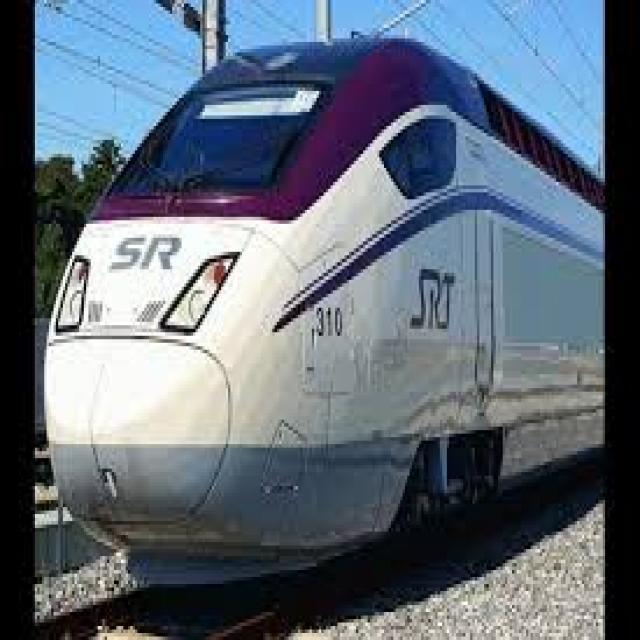trains: (43, 35, 604, 590)
